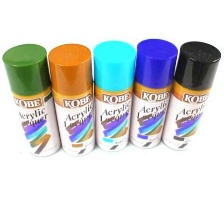aerosol_cans: (0, 40, 65, 158), (160, 38, 223, 152), (46, 40, 101, 158), (128, 35, 179, 152), (88, 38, 137, 154)
